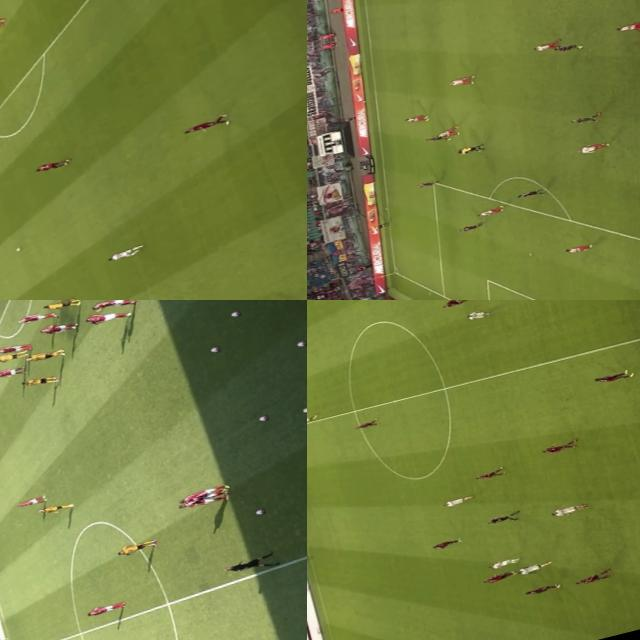ball: (226, 309, 242, 318), (258, 412, 270, 421), (251, 508, 264, 516), (12, 246, 24, 253), (299, 404, 307, 414), (294, 340, 304, 348), (208, 346, 218, 354)
player: (180, 112, 228, 136), (176, 481, 230, 502), (82, 307, 132, 326), (179, 491, 226, 510), (27, 156, 70, 176), (540, 437, 583, 457), (84, 600, 125, 619), (592, 368, 634, 386), (20, 372, 59, 391), (115, 538, 156, 556), (479, 568, 518, 586), (15, 308, 56, 325), (572, 570, 612, 586), (485, 555, 524, 571), (38, 300, 79, 315), (512, 560, 550, 576), (21, 349, 61, 364), (549, 40, 585, 56), (553, 502, 588, 518), (437, 494, 472, 510), (106, 244, 140, 260), (37, 500, 71, 516), (428, 536, 462, 552), (610, 20, 640, 38), (523, 582, 559, 597), (574, 139, 607, 155), (41, 320, 76, 335), (469, 467, 504, 482), (0, 340, 28, 358), (13, 494, 46, 509), (530, 37, 560, 53), (568, 112, 598, 127), (444, 74, 476, 88), (462, 306, 493, 320), (91, 300, 133, 310), (476, 204, 505, 218), (419, 132, 448, 146), (399, 112, 428, 126), (564, 242, 592, 256), (456, 220, 485, 233), (514, 188, 541, 201), (0, 349, 23, 363), (434, 125, 458, 138), (352, 418, 378, 430), (437, 300, 464, 310), (414, 178, 439, 188), (0, 367, 18, 378), (39, 295, 72, 300), (307, 413, 319, 425)
